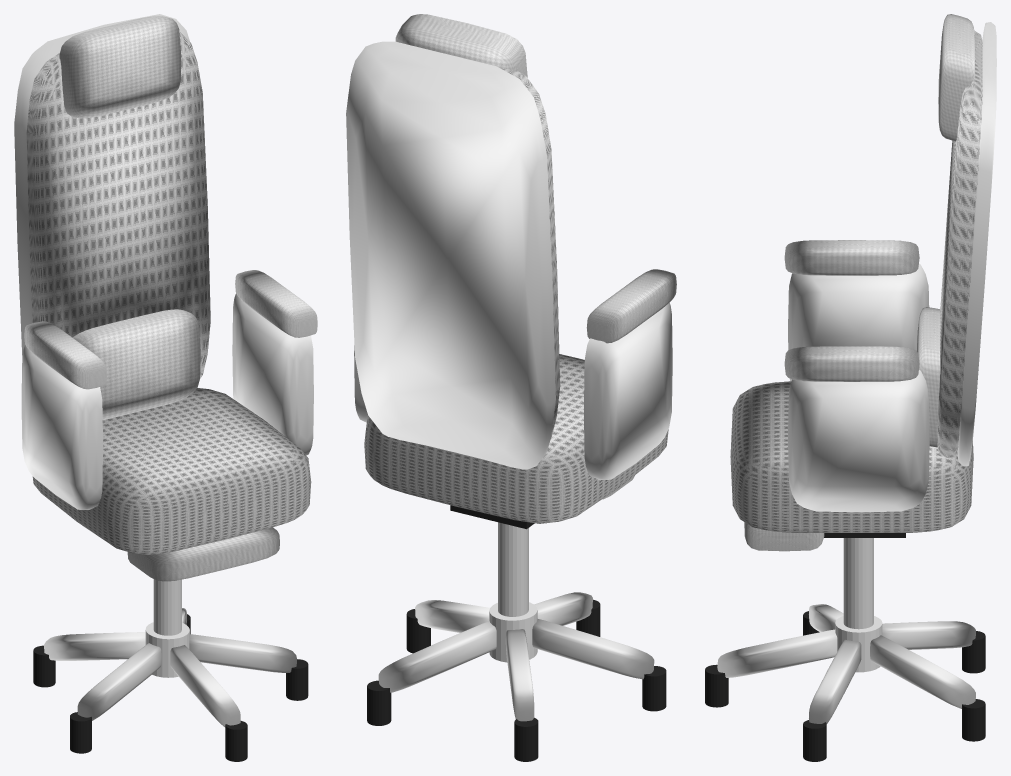
3 views of the same model, side by side, from view 1: azimuth 30°, elevation 25°; view 2: azimuth 150°, elevation 25°; view 3: azimuth 270°, elevation 25° (orthographic). The views are drawn at different scales.
Parts seen in each view (by area): view 1: 16 backrest, 15 seat, 19 headrest, 20 armrest_left, 18 lumbar_pillow, 22 armrest_right, 17 backrest_frame, 14 footrest_pad, 21 armrest_pad_left, 23 armrest_pad_right, 3 base_spoke_front_right, 6 base_spoke_front_left (+8 smaller); view 2: 17 backrest_frame, 15 seat, 20 armrest_left, 19 headrest, 21 armrest_pad_left, 6 base_spoke_front_left, 4 base_spoke_back_right, 12 gas_lift, 16 backrest, 5 base_spoke_back_left, 3 base_spoke_front_right, 1 base_hub (+5 smaller); view 3: 22 armrest_right, 15 seat, 16 backrest, 20 armrest_left, 17 backrest_frame, 23 armrest_pad_right, 21 armrest_pad_left, 19 headrest, 2 base_spoke_front, 4 base_spoke_back_right, 12 gas_lift, 5 base_spoke_back_left (+9 smaller).
Boxes of the visible parts, <box> form: 16 backrest: <box>26,32,210,378</box>; 15 seat: <box>32,388,311,554</box>; 19 headrest: <box>59,16,181,118</box>; 20 armrest_left: <box>21,345,102,509</box>; 18 lumbar_pillow: <box>72,309,200,419</box>; 22 armrest_right: <box>232,293,313,455</box>; 17 backrest_frame: <box>14,14,189,355</box>; 14 footrest_pad: <box>127,527,279,581</box>; 21 armrest_pad_left: <box>24,321,106,389</box>; 23 armrest_pad_right: <box>235,270,317,337</box>; 3 base_spoke_front_right: <box>189,634,296,672</box>; 6 base_spoke_front_left: <box>77,643,161,720</box>; 17 backrest_frame: <box>346,41,555,469</box>; 15 seat: <box>364,354,668,523</box>; 20 armrest_left: <box>584,303,672,479</box>; 19 headrest: <box>395,14,527,77</box>; 21 armrest_pad_left: <box>586,269,676,343</box>; 6 base_spoke_front_left: <box>532,619,654,679</box>; 4 base_spoke_back_right: <box>378,621,496,692</box>; 12 gas_lift: <box>498,522,528,616</box>; 16 backrest: <box>455,56,560,437</box>; 5 base_spoke_back_left: <box>505,629,534,721</box>; 3 base_spoke_front_right: <box>415,600,489,632</box>; 1 base_hub: <box>489,602,537,662</box>; 22 armrest_right: <box>788,370,929,512</box>; 15 seat: <box>730,381,973,532</box>; 16 backrest: <box>937,30,982,457</box>; 20 armrest_left: <box>788,263,929,381</box>; 17 backrest_frame: <box>957,22,996,466</box>; 23 armrest_pad_right: <box>784,346,919,381</box>; 21 armrest_pad_left: <box>784,240,919,275</box>; 19 headrest: <box>938,14,974,141</box>; 2 base_spoke_front: <box>717,629,837,677</box>; 4 base_spoke_back_right: <box>870,635,975,708</box>; 12 gas_lift: <box>843,538,873,629</box>; 5 base_spoke_back_left: <box>882,621,975,649</box>.
Size of the model in its own units: 0.5151 by 1.34 by 0.5301.
Materials: 9 (3 with a texture image).
